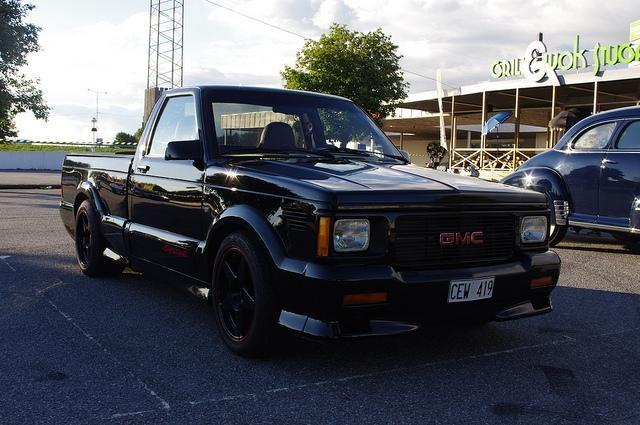car: (501, 108, 640, 235)
truck: (56, 85, 564, 359)
